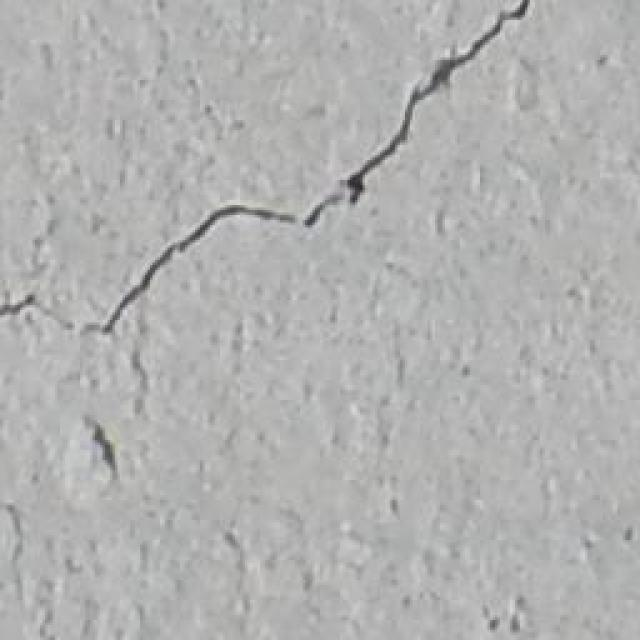concrete-crack: (0, 3, 536, 340)
